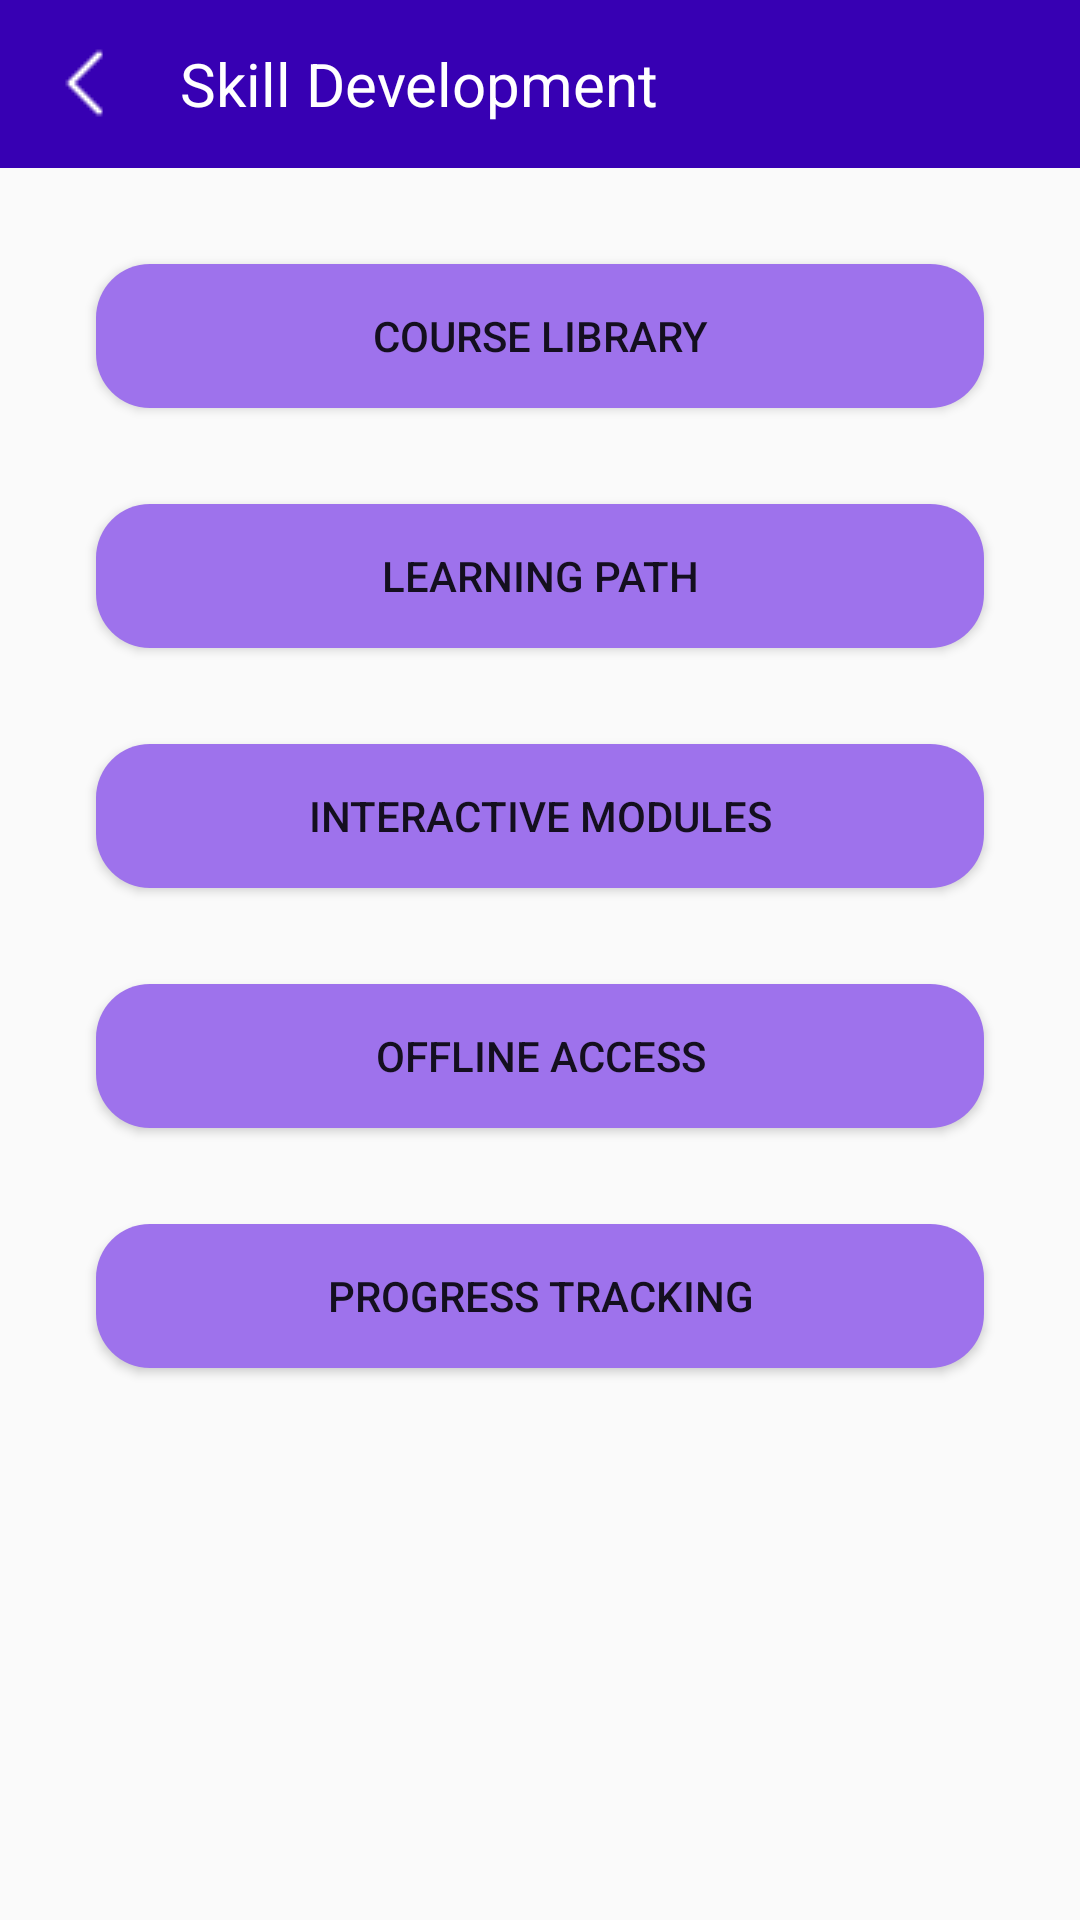

Icon click points for this 1080px x 1920px phone screenshot, format (x,y):
left arrow: (84,83)
